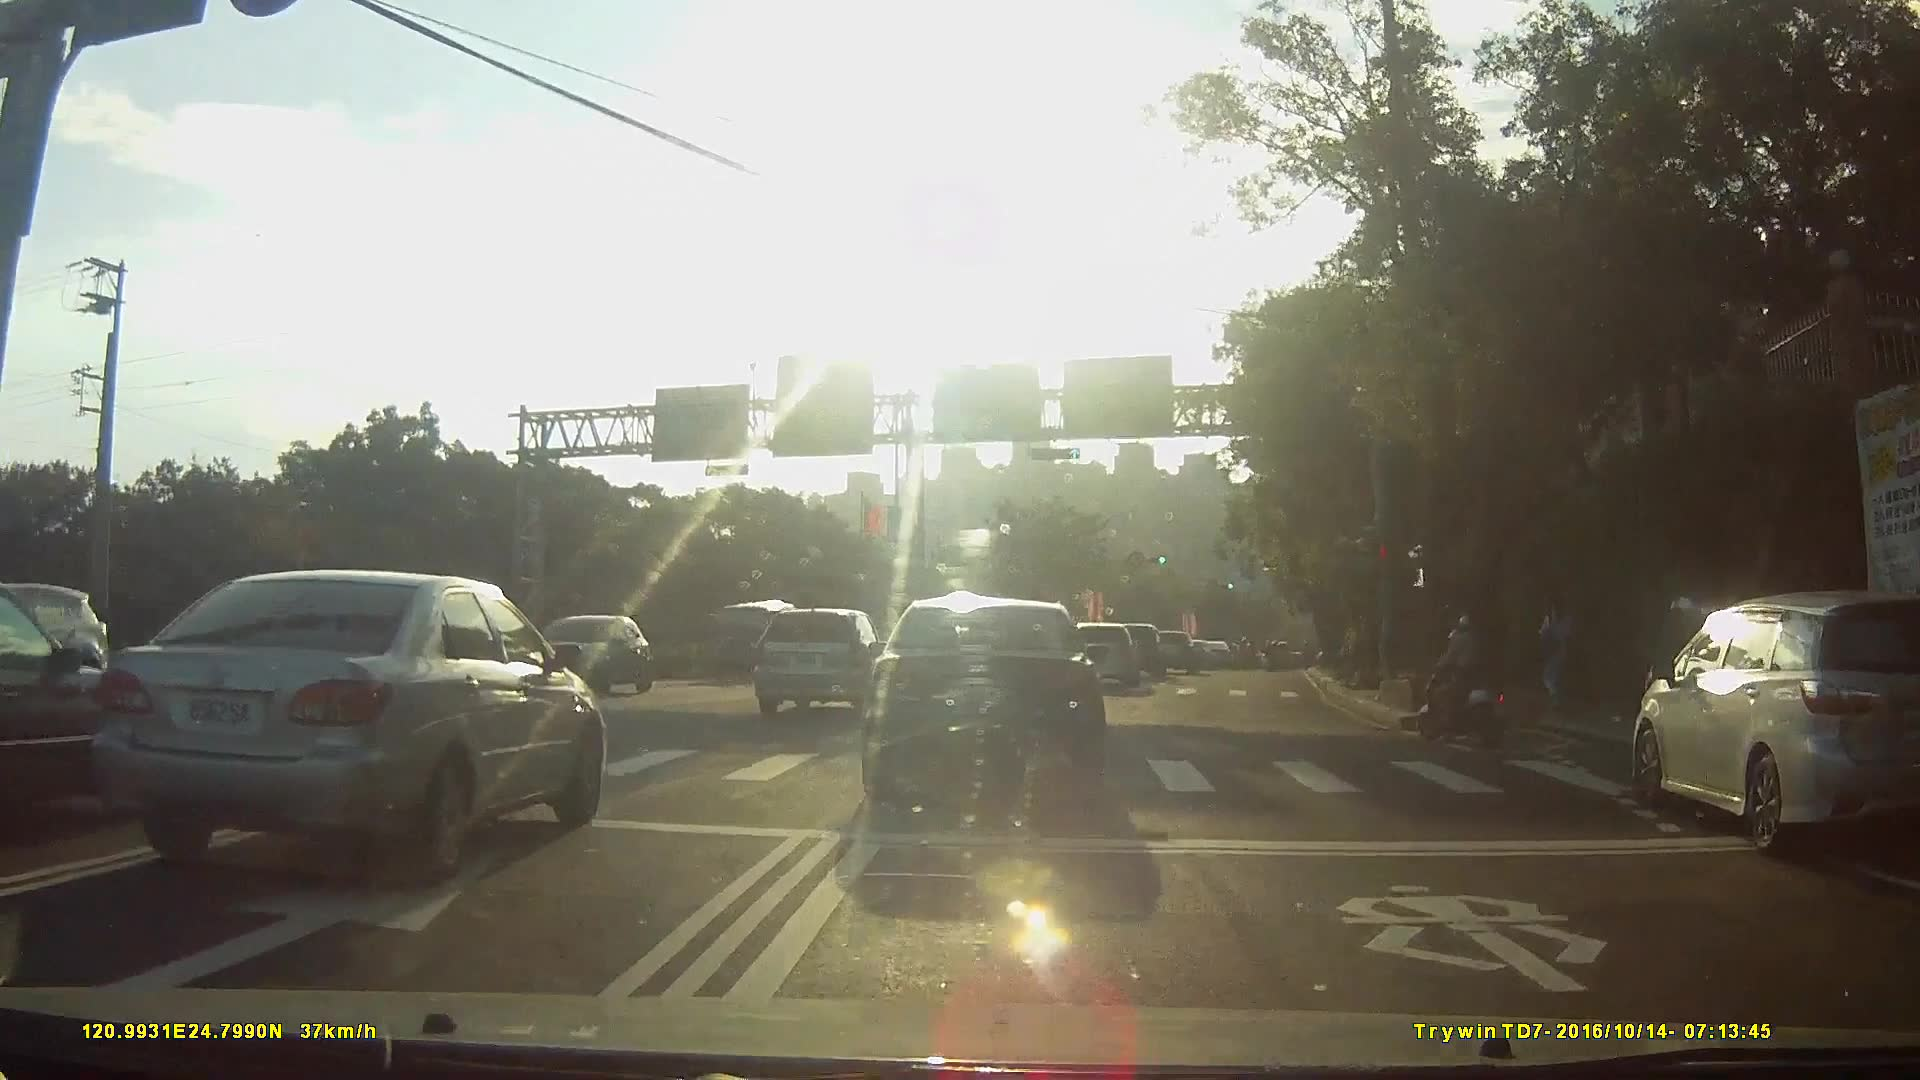pedestrian: (1535, 593, 1582, 720)
rider: (1422, 617, 1527, 755)
vehicle: (90, 569, 619, 879), (1628, 586, 1904, 872), (868, 598, 1120, 814), (1, 600, 148, 824), (761, 605, 903, 714), (516, 612, 672, 707), (706, 596, 808, 685), (1074, 622, 1148, 692), (1113, 622, 1175, 680), (1153, 629, 1209, 673), (1201, 640, 1241, 668)
